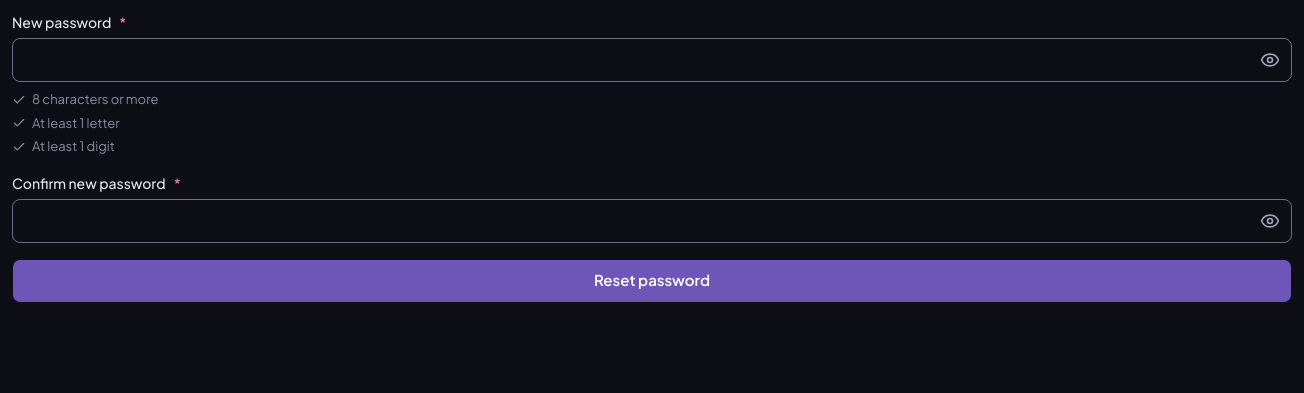
Test: a server error shows the backend message and keeps the form
Type "Journey2027" into the password field labelled "New password *" at (652, 60), box [12, 38, 1292, 82]
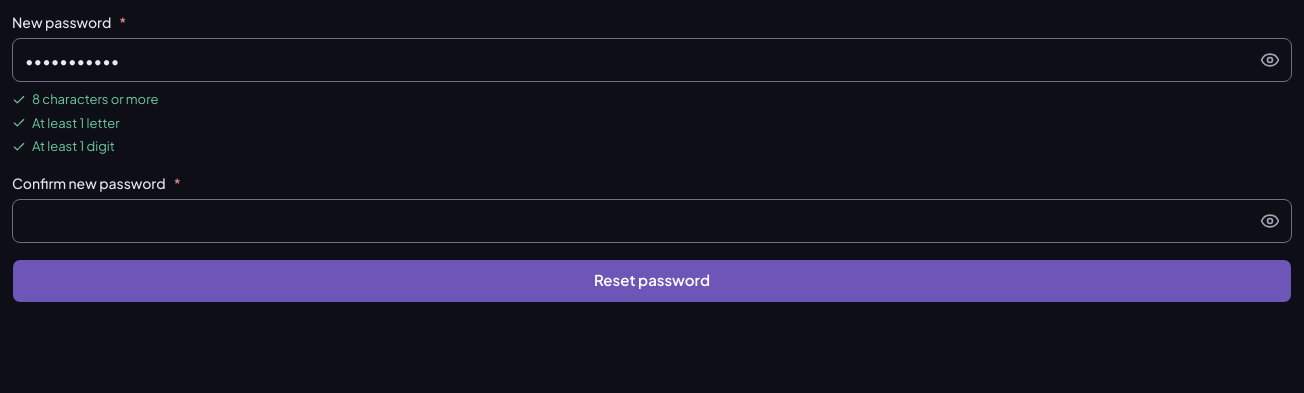
Type "Journey2027" into the password field labelled "Confirm new password *" at (652, 220), box [12, 198, 1292, 242]
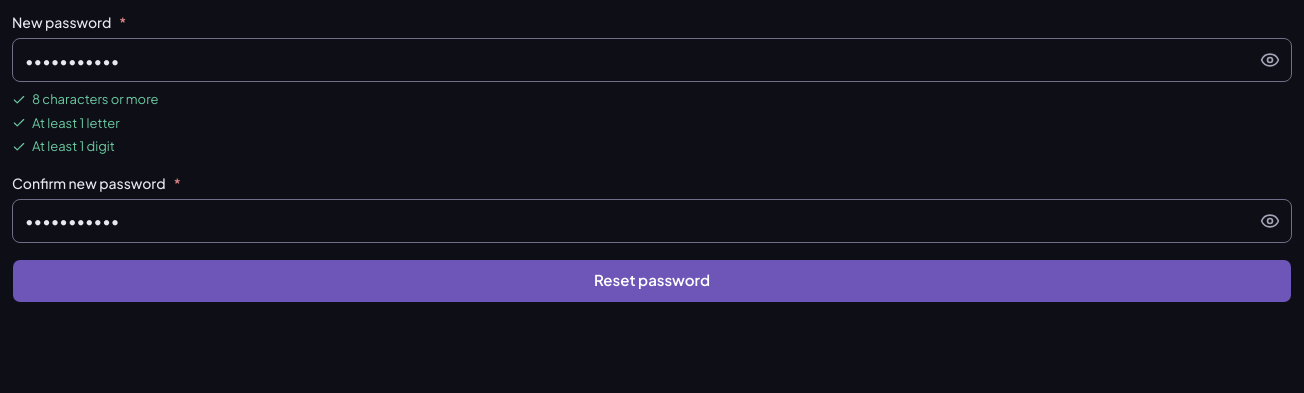
Click the button "Reset password" at (652, 280), box [12, 258, 1292, 302]
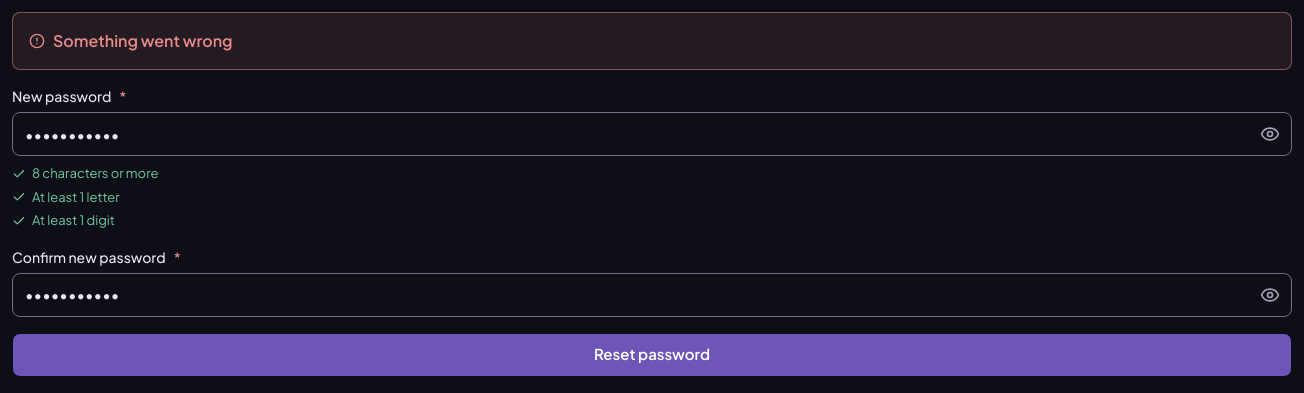
Expected: the button "Reset password" is shown, [12, 332, 1292, 376]
Expected: the message reads "Something went wrong", [53, 30, 232, 51]
